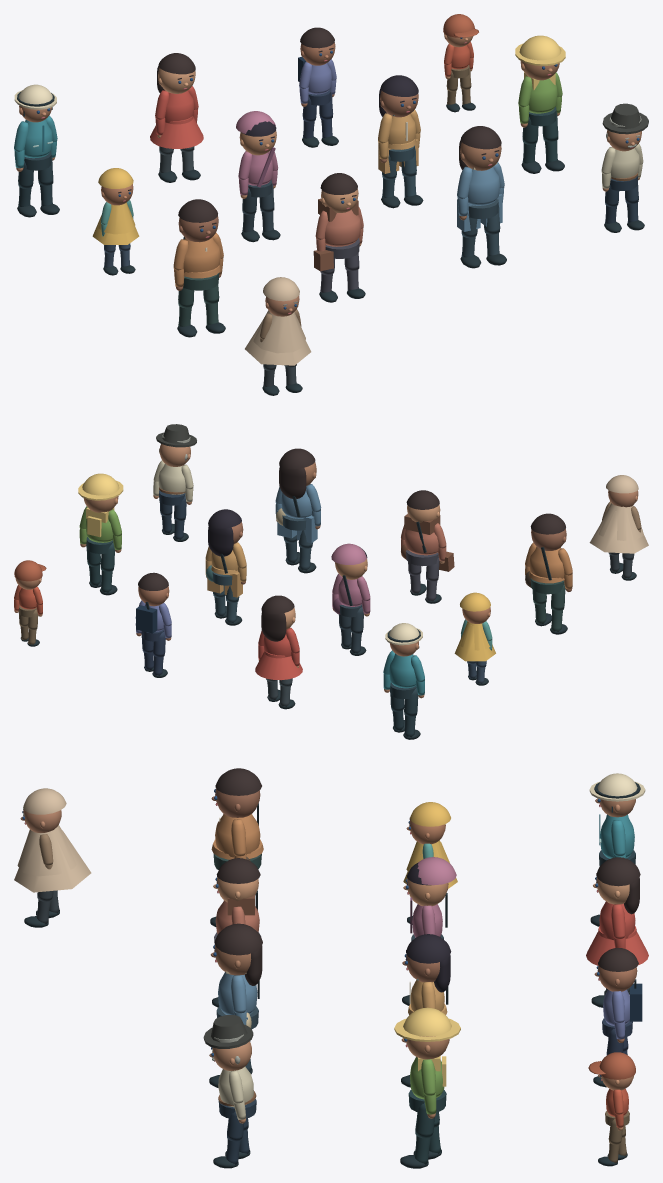
The model's file is people-proportions-pass.glb.
3 views of the same model, one above another, from view 1: azimuth 30°, elevation 25°; view 2: azimuth 150°, elevation 25°; view 3: azimuth 270°, elevation 25° (orthographic). The views are drawn at different scales.
Parts seen in each view (by area): view 1: coat_torso (×10), sculpted_hair (×6), head (×6), rain_poncho (×2), long_rain_cape (×2), poncho_hood (×2), rounded_dress_skirt, rain_helmet, soft_hat_crown; view 2: coat_torso (×6), sculpted_hair (×5), back_hair (×3), long_rain_cape (×2), head (×2), poncho_hood (×2), rounded_dress_skirt, rain_poncho, rain_helmet, oversized_hood, carried_bag, soft_cap_crown; view 3: head (×9), sculpted_hair (×6), coat_torso (×7), rain_helmet (×2), poncho_hood (×2), long_rain_cape, rain_poncho, rounded_dress_skirt, oversized_hood, soft_cap_crown, soft_hat_crown, helmet_brim.
Part boxes in pixels (left/top/right/bottom): coat_torso (×10): left=24, top=63, right=639, bottom=272; sculpted_hair (×6): left=158, top=27, right=501, bottom=222; head (×6): left=158, top=68, right=501, bottom=242; rain_poncho (×2): left=98, top=202, right=305, bottom=353; long_rain_cape (×2): left=92, top=215, right=311, bottom=365; poncho_hood (×2): left=98, top=168, right=299, bottom=301; rounded_dress_skirt: left=150, top=117, right=203, bottom=148; rain_helmet: left=519, top=35, right=561, bottom=60; soft_hat_crown: left=611, top=103, right=641, bottom=128; coat_torso (×6): left=158, top=464, right=564, bottom=688; sculpted_hair (×5): left=208, top=448, right=565, bottom=614; back_hair (×3): left=208, top=466, right=306, bottom=641; long_rain_cape (×2): left=454, top=508, right=648, bottom=661; head (×2): left=159, top=444, right=566, bottom=550; poncho_hood (×2): left=460, top=475, right=638, bottom=611; rounded_dress_skirt: left=255, top=652, right=302, bottom=680; rain_poncho: left=599, top=503, right=643, bottom=540; rain_helmet: left=82, top=473, right=119, bottom=495; oversized_hood: left=331, top=543, right=366, bottom=564; carried_bag: left=136, top=605, right=157, bottom=633; soft_cap_crown: left=14, top=560, right=42, bottom=581; head (×9): left=23, top=788, right=637, bottom=1070; sculpted_hair (×6): left=214, top=768, right=640, bottom=971; coat_torso (×7): left=215, top=814, right=635, bottom=1107; rain_helmet (×2): left=403, top=773, right=637, bottom=1036; poncho_hood (×2): left=23, top=788, right=450, bottom=826; long_rain_cape: left=14, top=830, right=91, bottom=892; rain_poncho: left=17, top=825, right=76, bottom=876; rounded_dress_skirt: left=586, top=931, right=648, bottom=965; oversized_hood: left=417, top=857, right=456, bottom=885; soft_cap_crown: left=599, top=1052, right=635, bottom=1079; soft_hat_crown: left=211, top=1015, right=247, bottom=1042; helmet_brim: left=394, top=1018, right=460, bottom=1041.
Bounding box in the file's own units: 7.34 × 2.01 × 7.36.
